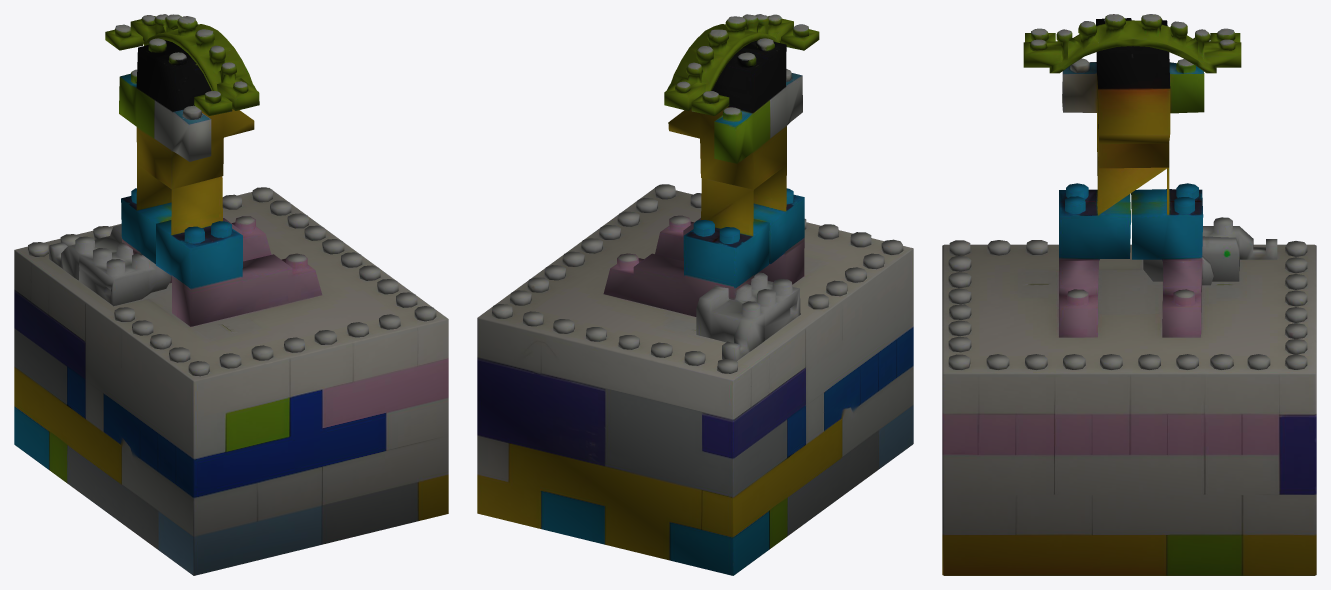
Rendered from object_50_asset_cf8e5ccc.glb.
The picture shows the model from 3 angles, left to right: view 1: azimuth 30°, elevation 25°; view 2: azimuth 150°, elevation 25°; view 3: azimuth 270°, elevation 25°; orthographic projection. The views are drawn at different scales.
Visible parts, largest first — view 1: tripo_node_c172ba96-ff9a-4848-a68c-c032f9412bf0; view 2: tripo_node_c172ba96-ff9a-4848-a68c-c032f9412bf0; view 3: tripo_node_c172ba96-ff9a-4848-a68c-c032f9412bf0.
Boxes of the visible parts, x1,y1,x2,y2 form: tripo_node_c172ba96-ff9a-4848-a68c-c032f9412bf0: (14,14,448,575); tripo_node_c172ba96-ff9a-4848-a68c-c032f9412bf0: (477,14,913,575); tripo_node_c172ba96-ff9a-4848-a68c-c032f9412bf0: (942,14,1316,575).
Size of the model in its own units: 0.5801 by 0.998 by 0.709.
1 material, 1 textured.
